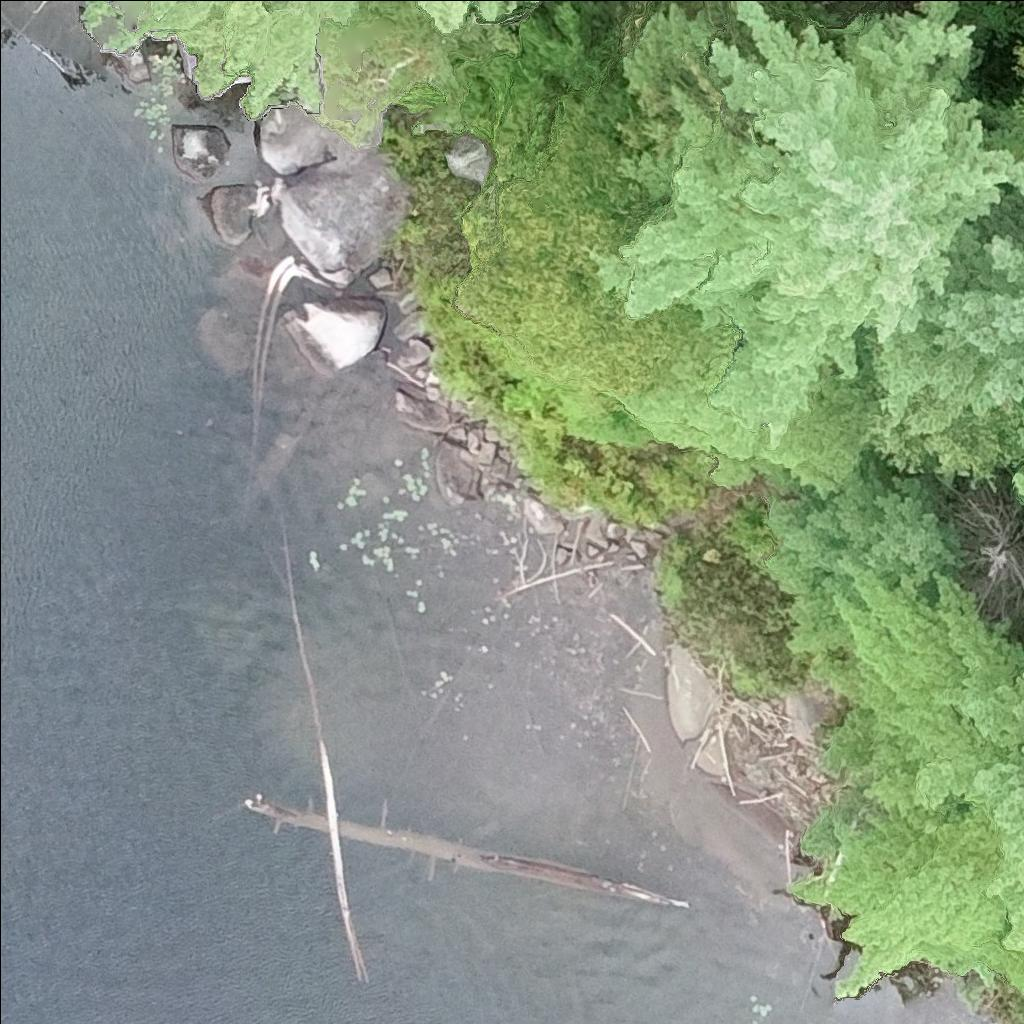crown: (614, 0, 1023, 501), (452, 50, 738, 422), (789, 584, 1023, 1000), (771, 444, 968, 649), (110, 0, 369, 115), (864, 404, 1023, 477), (949, 486, 1023, 635), (972, 77, 1023, 157), (414, 0, 532, 30), (86, 0, 113, 14), (1017, 41, 1023, 72), (1017, 664, 1023, 681), (1020, 486, 1023, 504)
